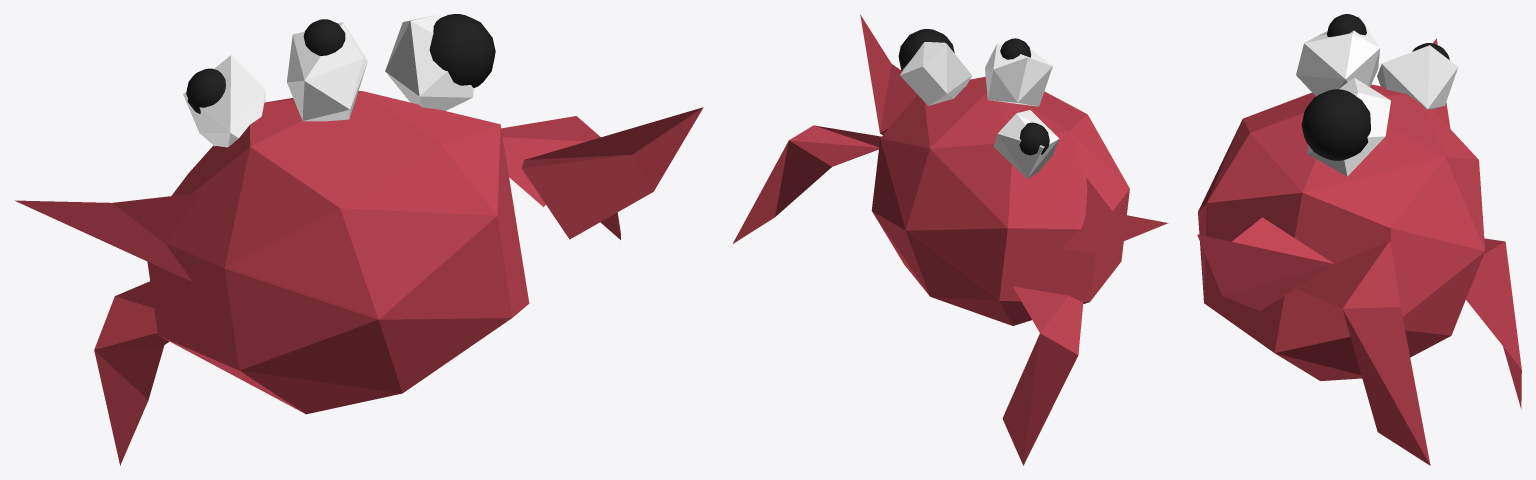
The model's file is weird crab.fbx.
3 renders of one model, left to right at view 1: azimuth 30°, elevation 25°; view 2: azimuth 150°, elevation 25°; view 3: azimuth 270°, elevation 25°, orthographic. The views are drawn at different scales.
Visible parts, largest first — view 1: group1292895944, Sphere_2, Sphere, Sphere_1; view 2: group1292895944, Sphere_2, Sphere, Sphere_1; view 3: group1292895944, Sphere_2, Sphere_1.
Boxes of the visible parts, bbox=[...] form: group1292895944: bbox=[15, 15, 703, 465]; Sphere_2: bbox=[429, 14, 495, 87]; Sphere: bbox=[186, 68, 225, 113]; Sphere_1: bbox=[303, 19, 345, 55]; group1292895944: bbox=[733, 15, 1168, 465]; Sphere_2: bbox=[898, 29, 954, 70]; Sphere: bbox=[1019, 122, 1049, 155]; Sphere_1: bbox=[1000, 38, 1030, 59]; group1292895944: bbox=[1197, 16, 1521, 465]; Sphere_2: bbox=[1301, 89, 1370, 160]; Sphere_1: bbox=[1327, 14, 1366, 36].
Bounding box in the file's own units: 0.2095 × 0.1622 × 0.1081.
